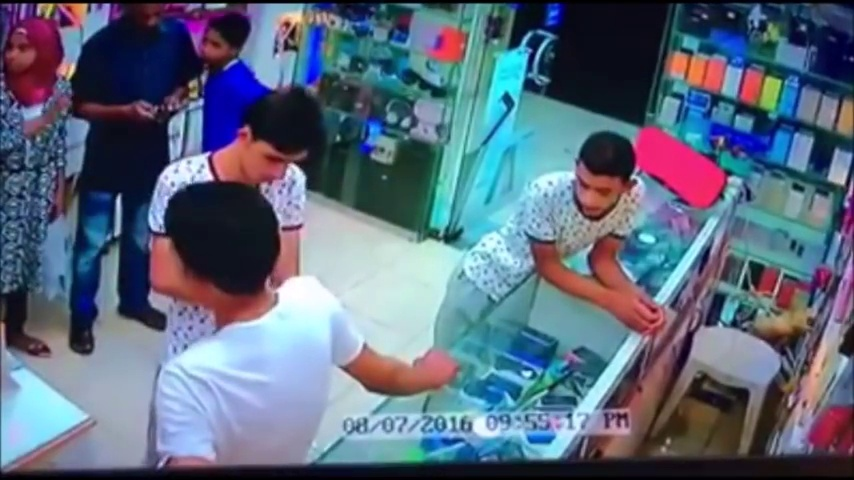face: (567, 159, 622, 216), (256, 134, 302, 187), (4, 33, 36, 71), (200, 28, 228, 64), (131, 5, 154, 39)
